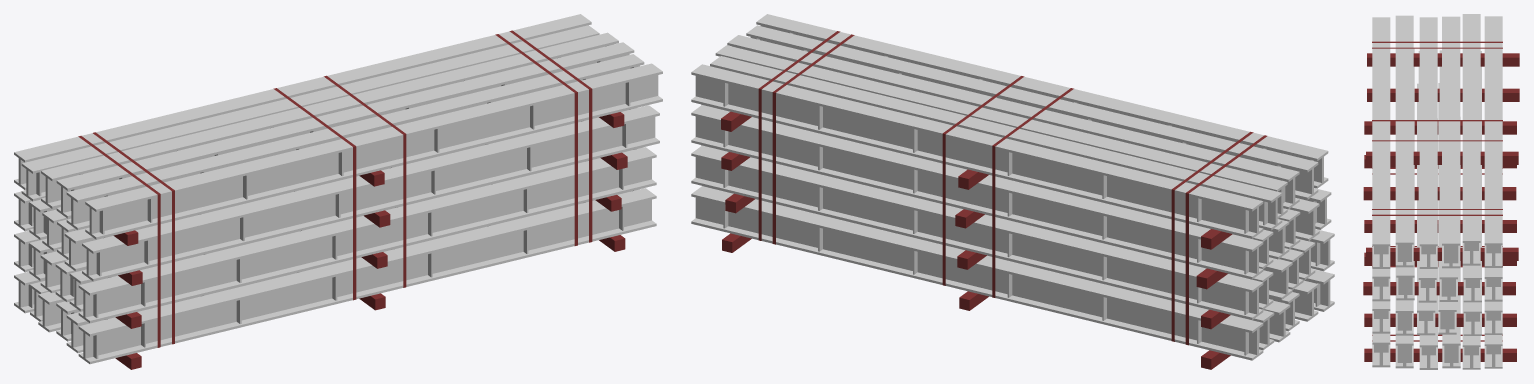
Rendered from SM_CraneBeamPack01.fbx.
The picture shows the model from 3 angles, left to right: view 1: azimuth 30°, elevation 25°; view 2: azimuth 150°, elevation 25°; view 3: azimuth 270°, elevation 25°; orthographic projection. The views are drawn at different scales.
Visible parts, largest first — view 1: CraneBeamPack01COnstr, CraneBeamPack01Beams; view 2: CraneBeamPack01COnstr, CraneBeamPack01Beams; view 3: CraneBeamPack01COnstr, CraneBeamPack01Beams.
Boxes of the visible parts, x1,y1,x2,y2 form: CraneBeamPack01COnstr: [14, 14, 662, 364]; CraneBeamPack01Beams: [78, 30, 627, 369]; CraneBeamPack01COnstr: [691, 14, 1334, 360]; CraneBeamPack01Beams: [721, 31, 1266, 369]; CraneBeamPack01COnstr: [1372, 14, 1502, 369]; CraneBeamPack01Beams: [1363, 41, 1519, 361].
Bounding box in the file's own units: 602 × 164 × 173.
